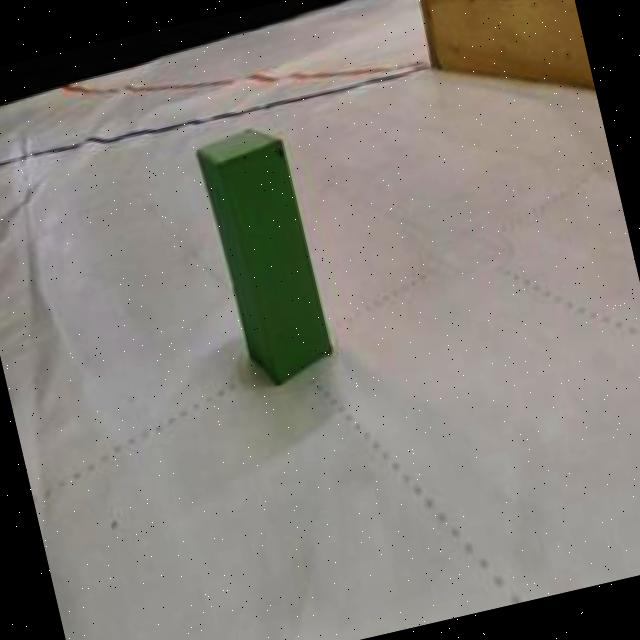greenbox: (190, 118, 339, 390)
